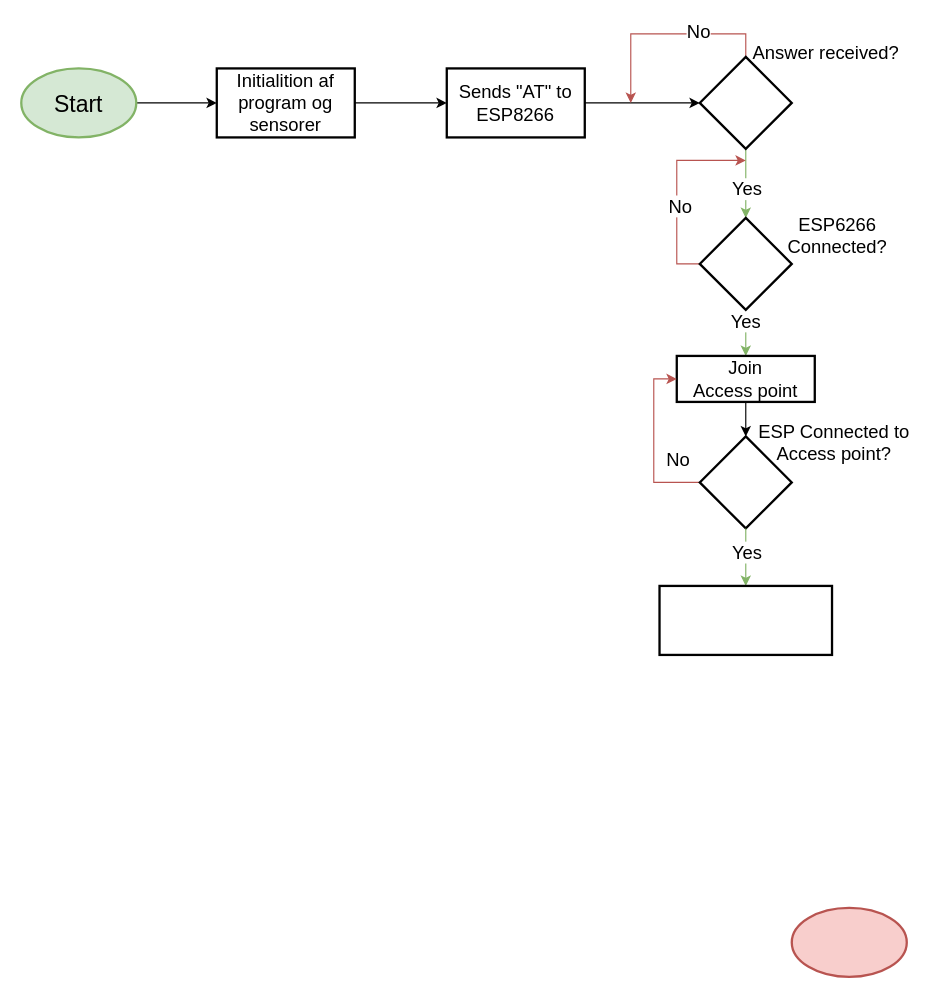
Image size: 937x997. Some labels were removed from this diagram. The centre of each missing label's shape, as x and y in pixels:
"ESP6288 Connected" goes at (745,620).
"Finished" goes at (848,941).
